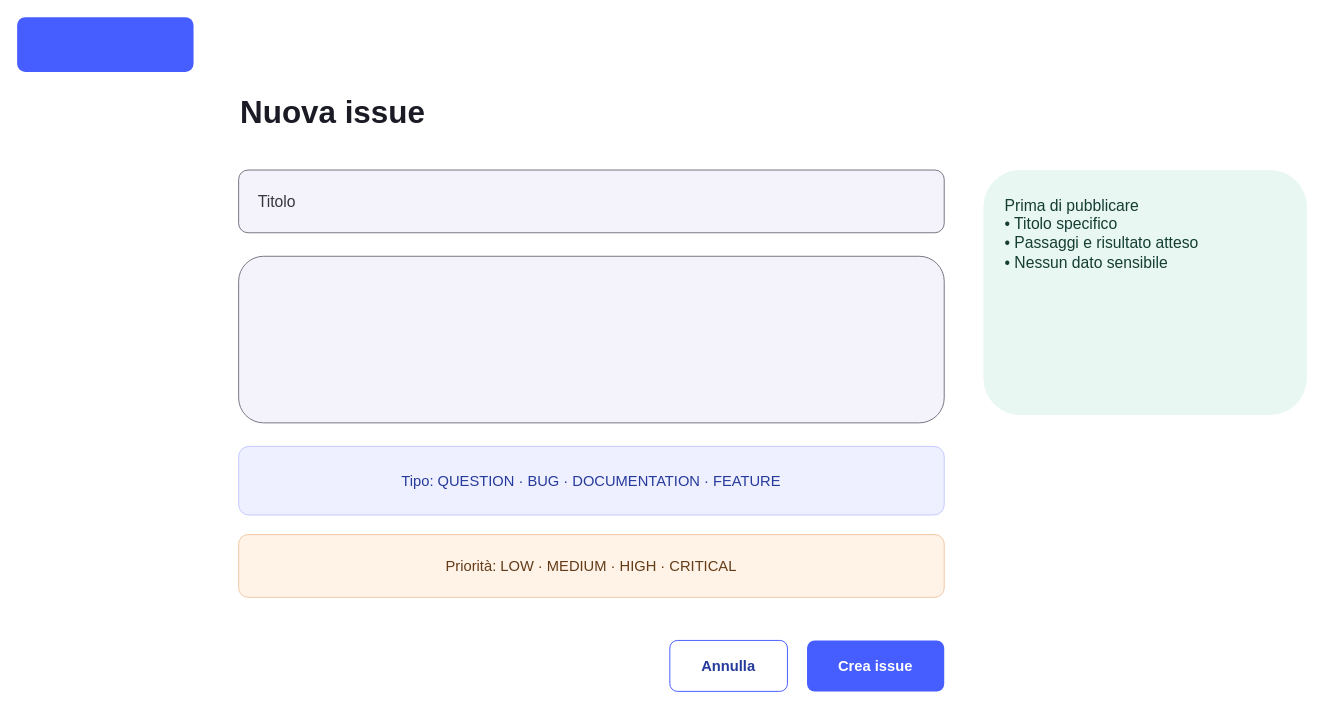
The diagram is 1323 pixels wide and 709 high, and some of its shapes have lost their labels. Here are the shapes that lost their labels. From the top down, the centre of each, then its label:
At point (105, 44): "BugBoard26".
At point (591, 339): "Descrizione".
